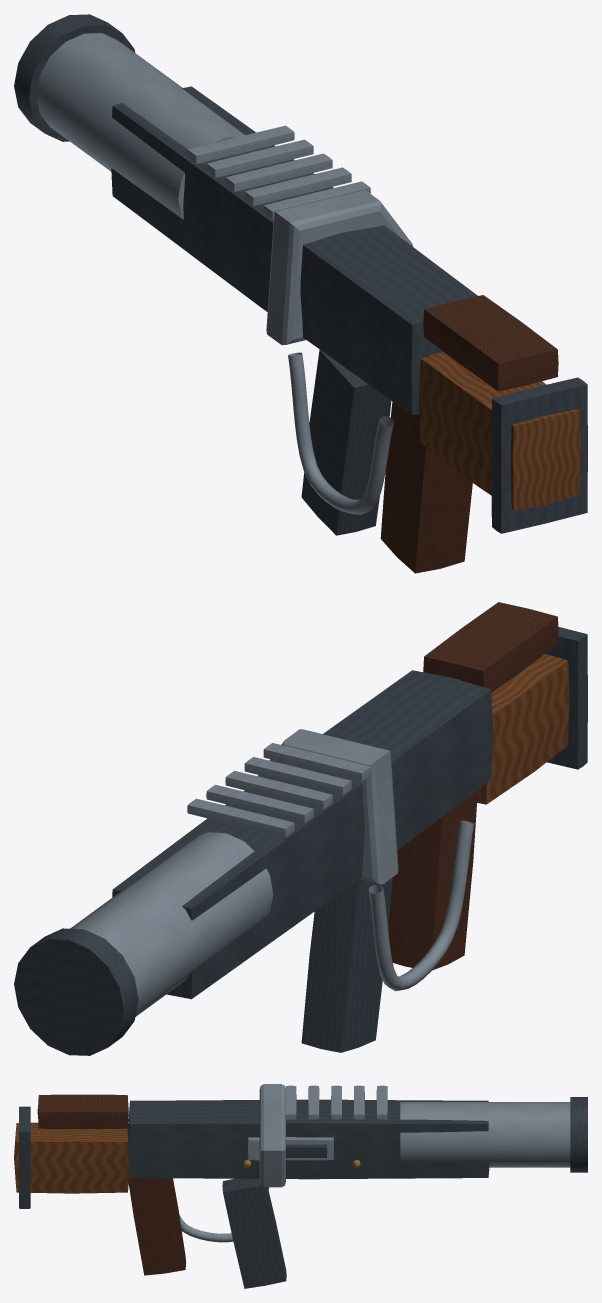
File: grenade-launcher.lod1.glb
3 views of the same model, one above another, from view 1: azimuth 30°, elevation 25°; view 2: azimuth 150°, elevation 25°; view 3: azimuth 270°, elevation 25° (orthographic). The views are drawn at different scales.
Parts seen in each view (by area): view 1: iron.0, steel.2, wood.8, leather.1, iron.9, leather.17, steel.10, iron.18, steel.11, iron.16, steel.4, steel.3 (+3 smaller); view 2: iron.0, steel.2, iron.16, iron.9, leather.1, wood.8, leather.17, steel.10, steel.11, iron.18, steel.6, steel.7 (+3 smaller); view 3: iron.0, steel.2, wood.8, iron.9, leather.1, leather.17, steel.10, iron.16, iron.18, steel.12, iron.13, steel.11 (+5 smaller).
Part boxes in pixels (x1,y1,x2,y2): iron.0: (111,86,477,415); steel.2: (36,33,244,219); wood.8: (418,352,581,510); leather.1: (380,401,472,573); iron.9: (301,349,391,535); leather.17: (423,295,558,391); steel.10: (266,190,413,345); iron.18: (491,377,587,533); steel.11: (288,352,393,514); iron.16: (14,14,135,141); steel.4: (206,139,313,177); steel.3: (187,125,294,163); iron.0: (112,670,493,999); steel.2: (70,832,273,1016); iron.16: (14,928,138,1055); iron.9: (301,877,392,1052); leather.1: (388,790,477,970); wood.8: (477,654,569,804); leather.17: (423,602,558,692); steel.10: (258,729,398,884); steel.11: (368,820,474,991); iron.18: (545,627,587,769); steel.6: (244,757,351,795); steel.7: (263,743,370,781); iron.0: (127,1099,489,1179); steel.2: (400,1102,570,1167); wood.8: (14,1122,129,1193); iron.9: (222,1178,286,1288); leather.1: (128,1169,186,1275); leather.17: (37,1094,128,1129); steel.10: (259,1084,285,1187); iron.16: (570,1097,587,1172); iron.18: (18,1106,30,1208); steel.12: (248,1137,333,1160); iron.13: (286,1144,327,1157); steel.11: (179,1187,269,1242).
Bounding box in the file's own units: 0.1785 × 0.403 × 1.13.
Materials: 5 (5 with a texture image).
